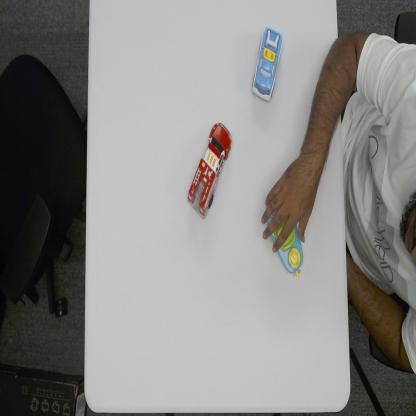Arm: (304, 34, 341, 191)
Boat: (268, 208, 303, 276)
Car: (250, 23, 284, 102)
Firetruck: (187, 121, 234, 221)
Hand: (262, 157, 313, 252)
